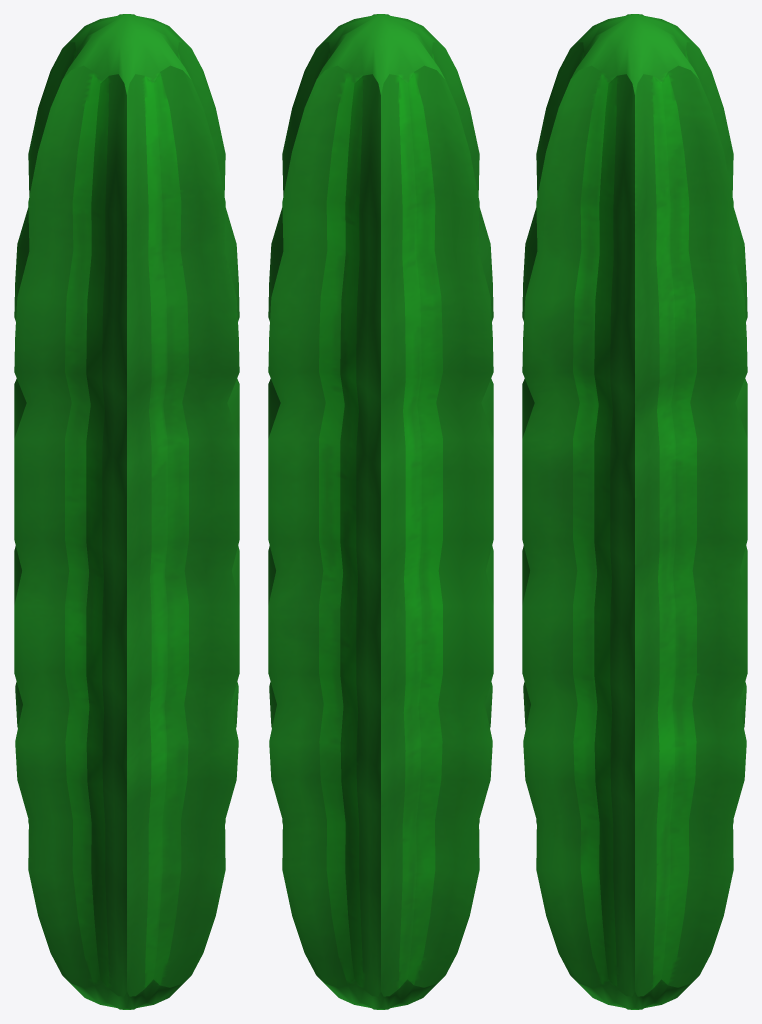
Rendered from Sigarilyas.glb.
3 views of the same model, side by side, from view 1: azimuth 30°, elevation 25°; view 2: azimuth 150°, elevation 25°; view 3: azimuth 270°, elevation 25° (orthographic).
Parts seen in each view (by area): view 1: Sigarilyas; view 2: Sigarilyas; view 3: Sigarilyas.
Part boxes in pixels (<box>): Sigarilyas: <box>14,14,239,1009</box>; Sigarilyas: <box>268,14,493,1009</box>; Sigarilyas: <box>522,14,747,1009</box>.
Size of the model in its own units: 0.8201 by 3.46 by 0.7103.
Materials: 1 (1 with a texture image).
